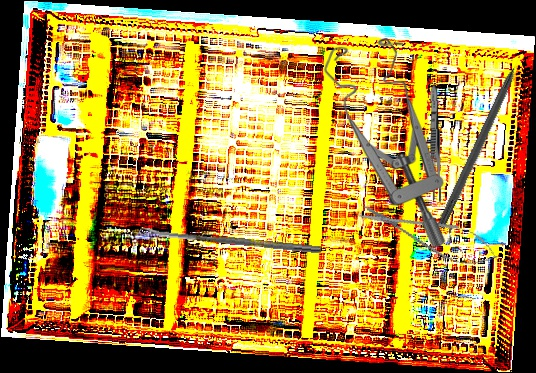Dressing Forceps: (427, 83, 444, 204)
Hook Surgical: (435, 45, 531, 231)
Micro Scissor: (353, 193, 504, 275)
Speculum: (324, 38, 447, 248)
Surgical Spoon: (139, 226, 322, 254)
